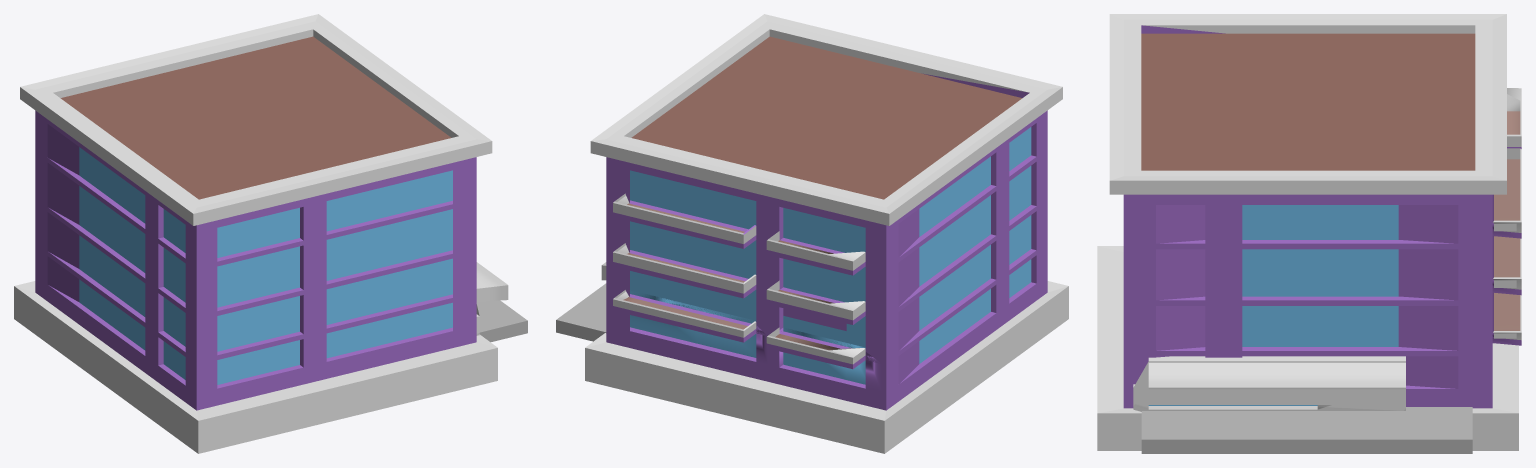
The model's file is PurpleBuilding4x4x3.fbx.
3 views of the same model, side by side, from view 1: azimuth 30°, elevation 25°; view 2: azimuth 150°, elevation 25°; view 3: azimuth 270°, elevation 25° (orthographic). The views are drawn at different scales.
Parts seen in each view (by area): view 1: House; view 2: House; view 3: House.
Part boxes in pixels (x1,y1,x2,y2): House: (14,14,527,453); House: (556,14,1068,453); House: (1097,14,1521,453).
Size of the model in its own units: 4.6 by 2.97 by 4.23.
Materials: 1 (1 with a texture image).
